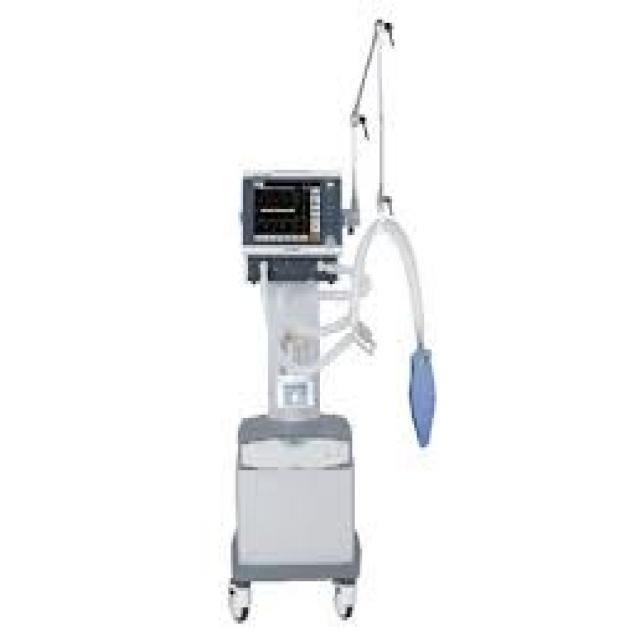ventilator: (196, 73, 444, 618)
